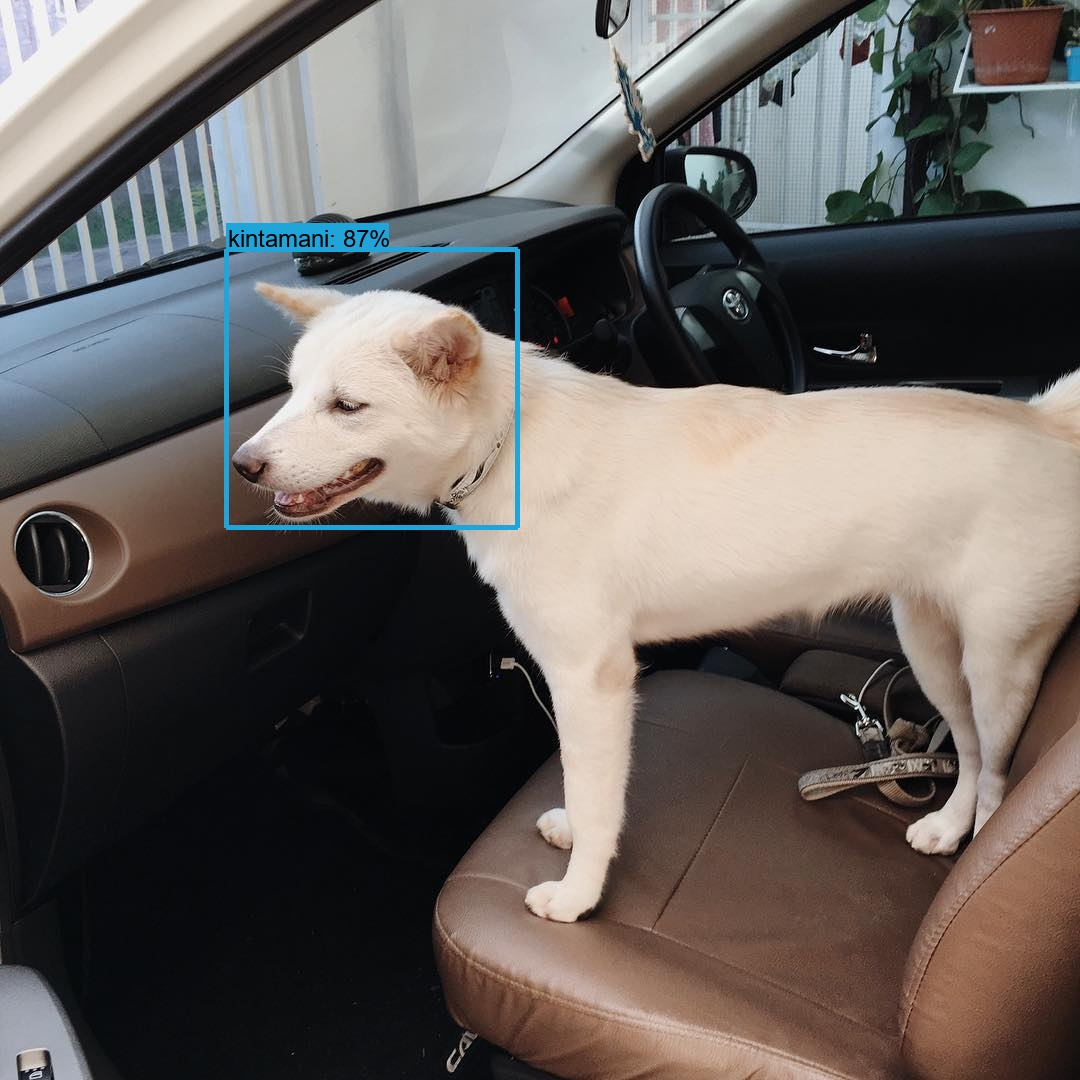kintamani: (222, 276, 504, 540)
